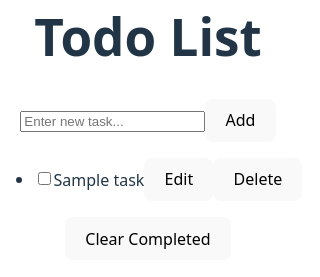
Scenario: после нажатия "Clear Completed" выполненные задачи удаляются
The image size is (320, 277).
Click the checkbox.
click(44, 179)  # box top-left (38, 172), bottom-right (50, 186)
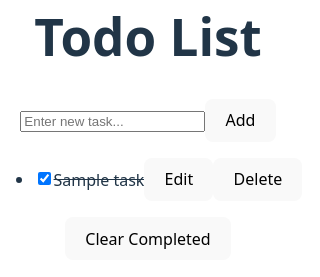
Click the button "Clear Completed".
click(148, 239)  # box top-left (65, 217), bottom-right (231, 260)
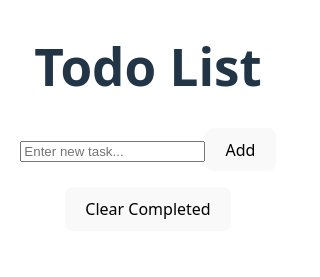
expect the text "Sample task" is gone: met
